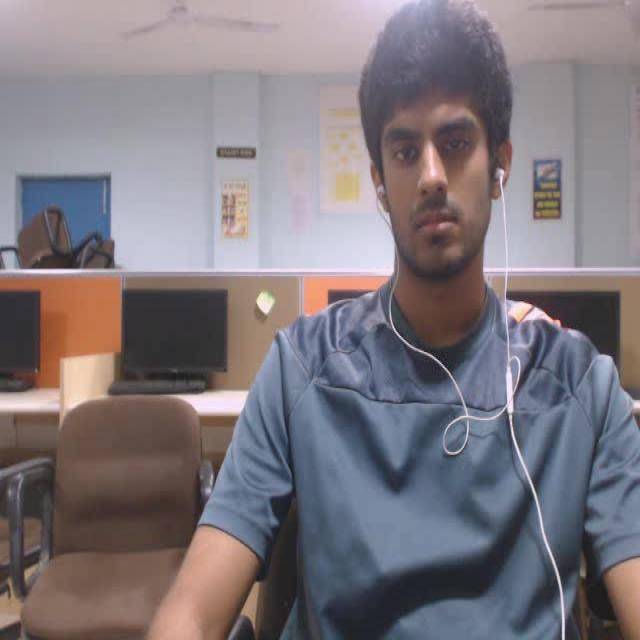Engaged: (349, 0, 528, 307)
